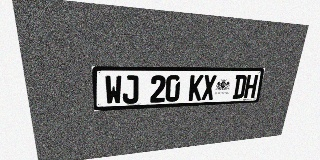0: (165, 75, 181, 102)
2: (150, 75, 166, 103)
D: (232, 75, 247, 99)
H: (244, 75, 258, 98)
J: (122, 75, 139, 104)
K: (188, 75, 204, 101)
W: (105, 75, 122, 105)
X: (201, 75, 217, 100)
